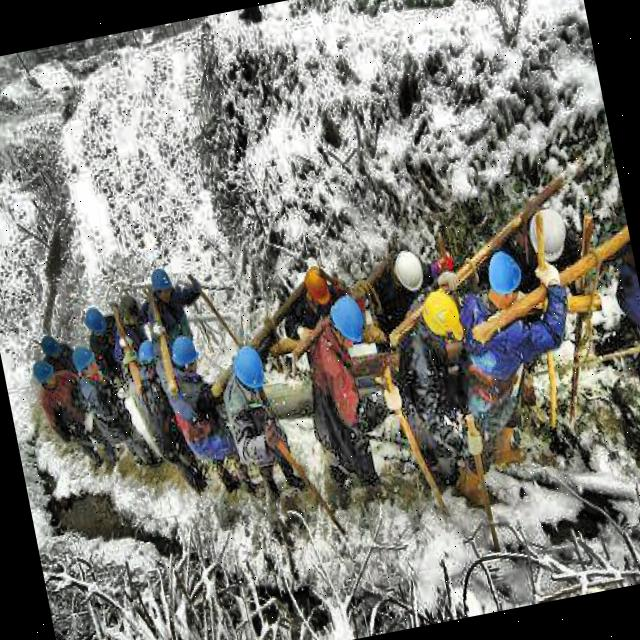helmet: (410, 282, 472, 362), (476, 240, 532, 315), (517, 200, 574, 268), (322, 292, 369, 352), (227, 339, 269, 398), (386, 245, 428, 298), (162, 330, 202, 380), (298, 260, 334, 311), (144, 262, 176, 308), (66, 340, 102, 380), (78, 303, 112, 344), (27, 356, 60, 396), (38, 329, 66, 364)
